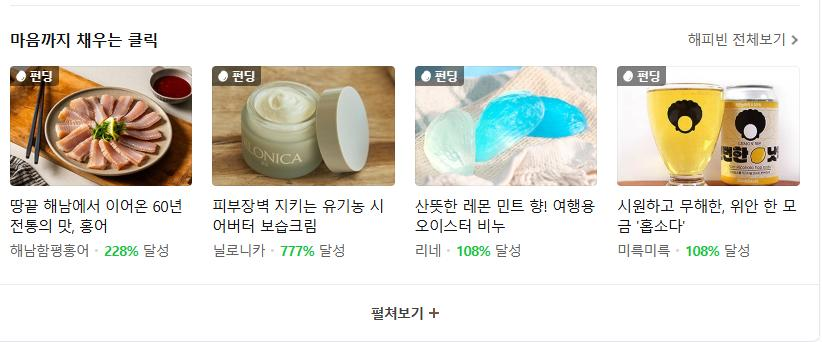button: (686, 34, 801, 48), (372, 304, 441, 323)
